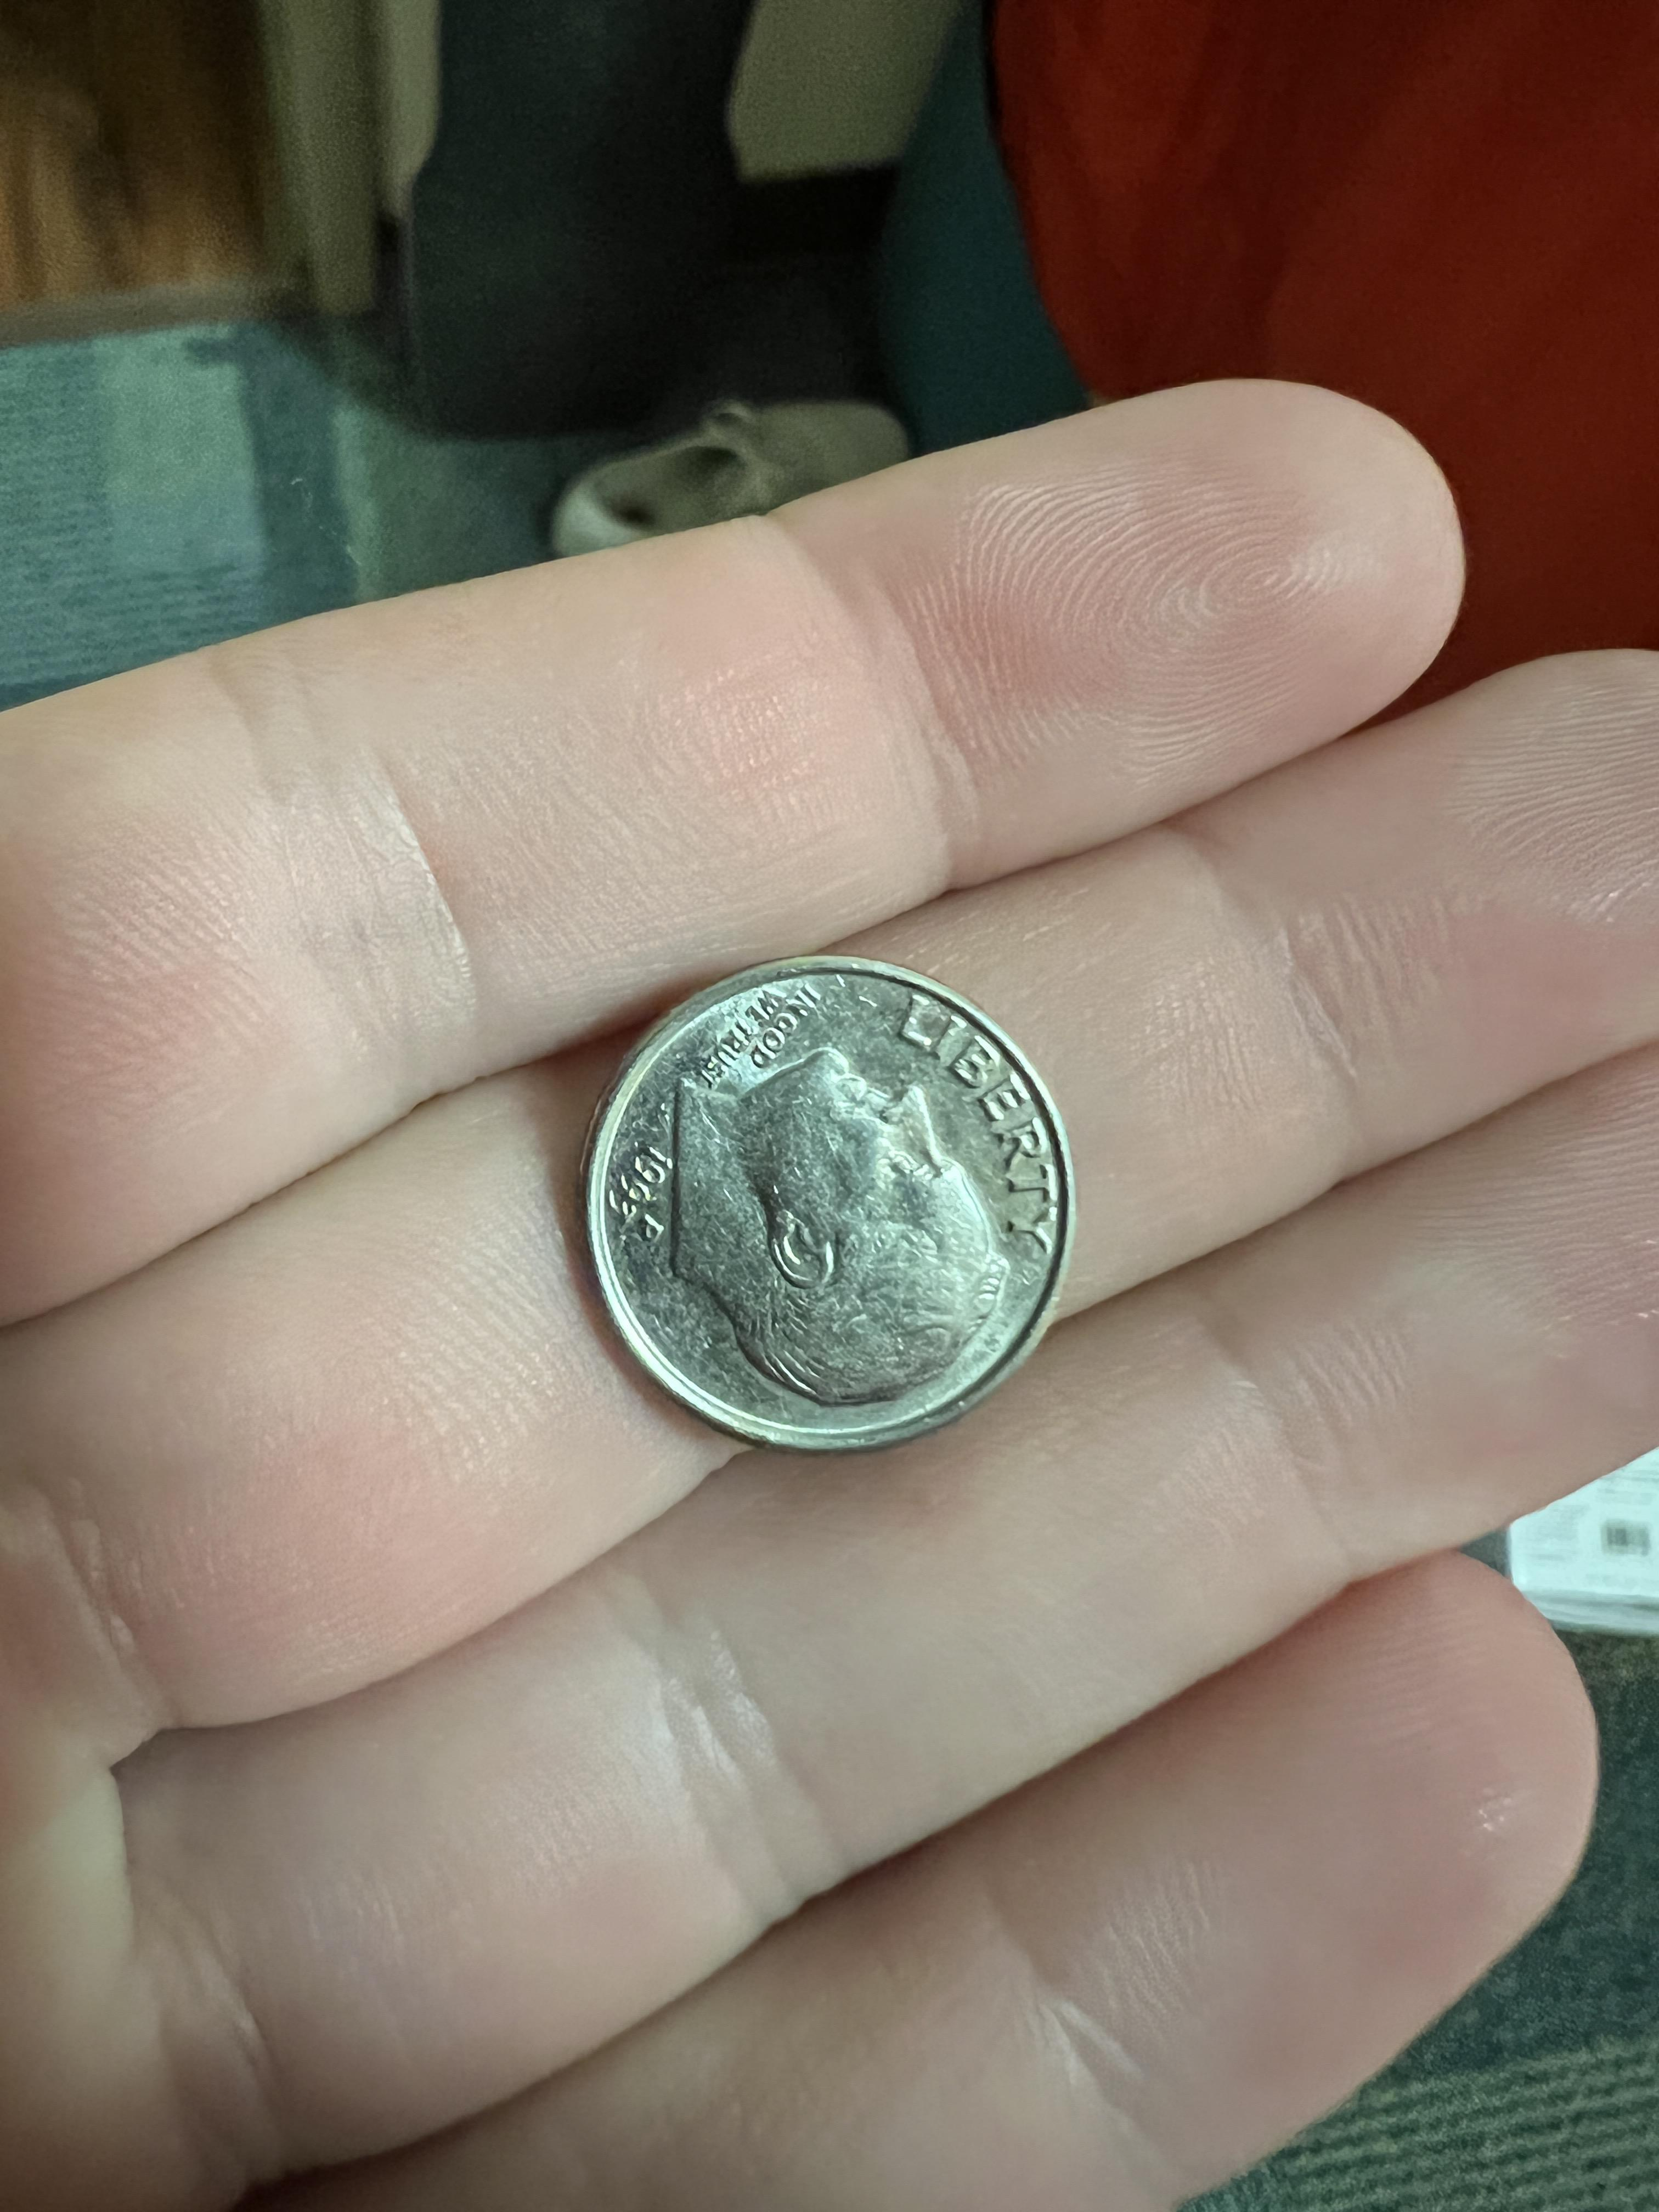Dime: (565, 944, 1107, 1463)
